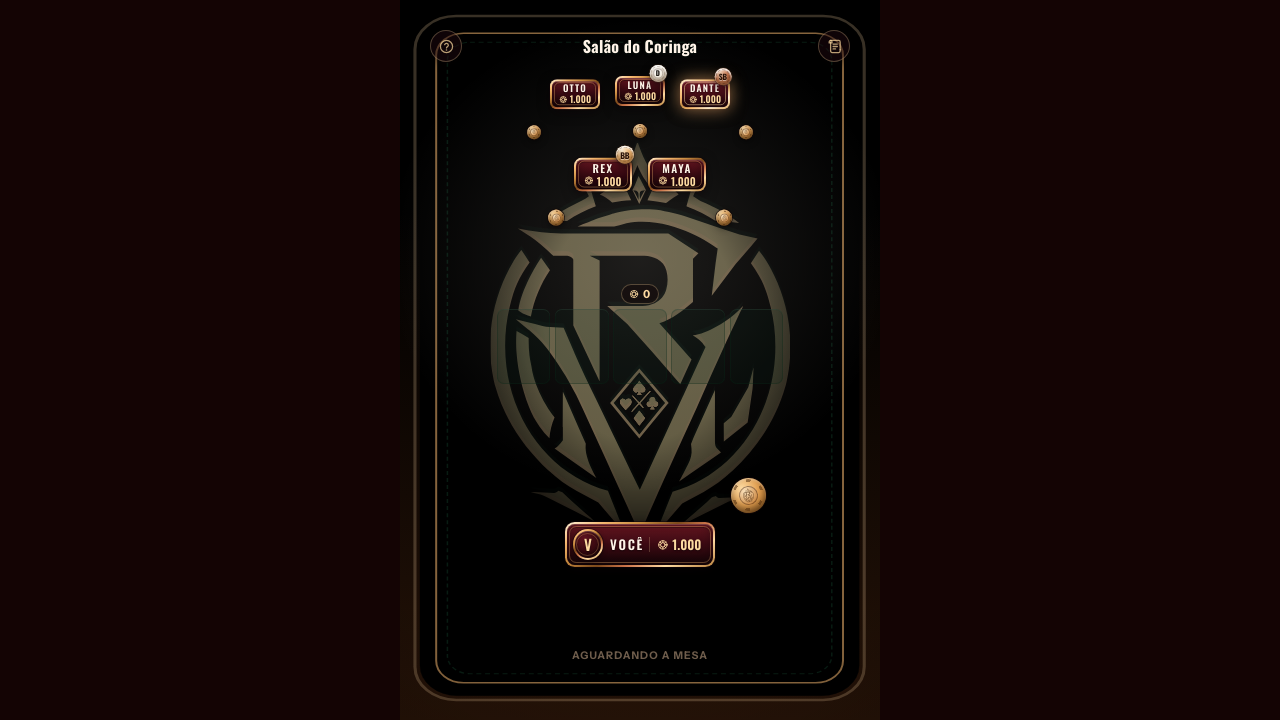
a placa do rival abre o perfil dele › cada rival tem a sua porta, e ela é um botão
This screenshot has width=1280, height=720.
What coordinates should you click on to do the following:
click the button with test id "cash-profile-1"
I would click on:
 (575, 94)
Its box is [550, 79, 600, 109].
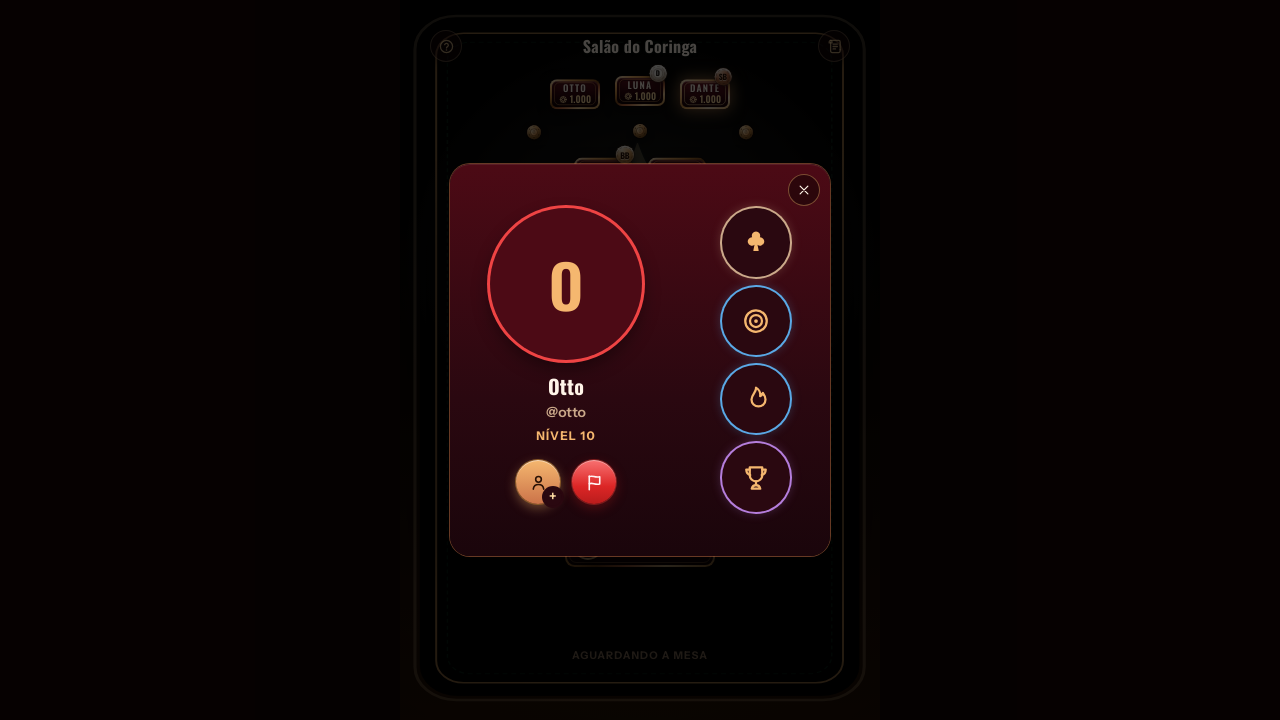
Now the dialog with test id "opponent-profile" shows "Otto", box [548, 371, 584, 401]
